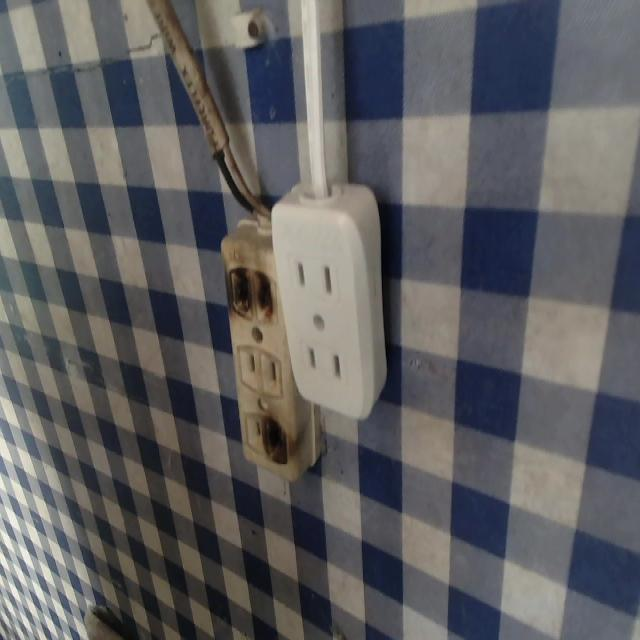-: (222, 260, 278, 331), (260, 408, 289, 463)
